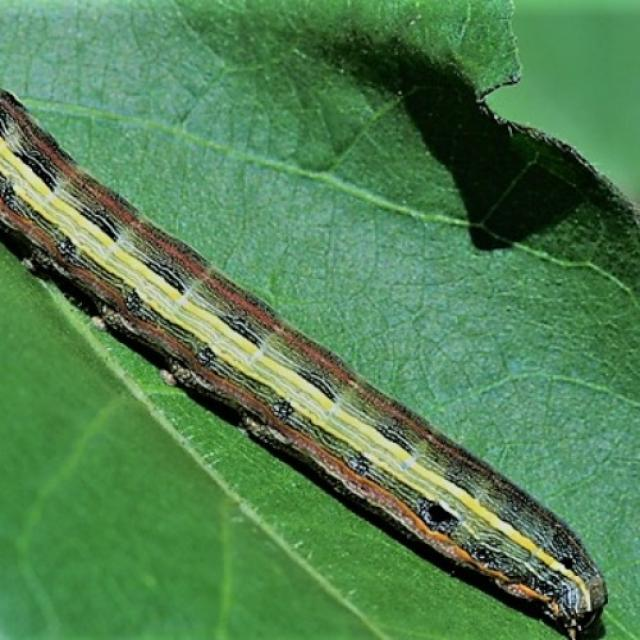armyworm: (0, 83, 611, 636)
